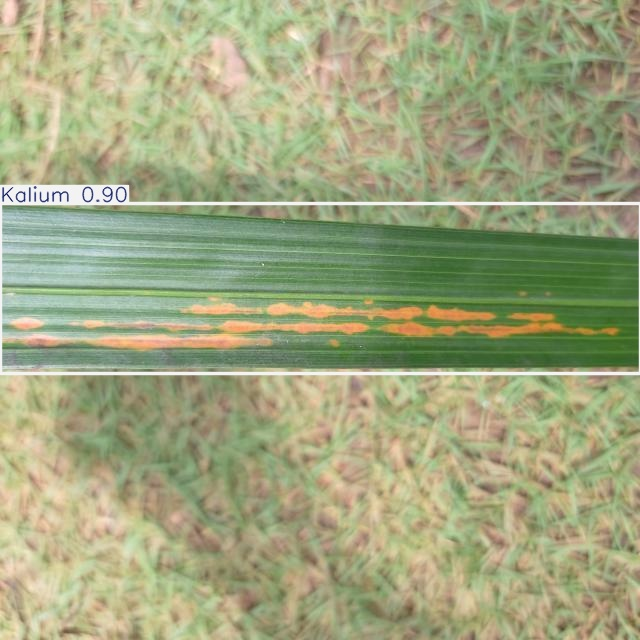Kalium: (0, 203, 640, 374)
